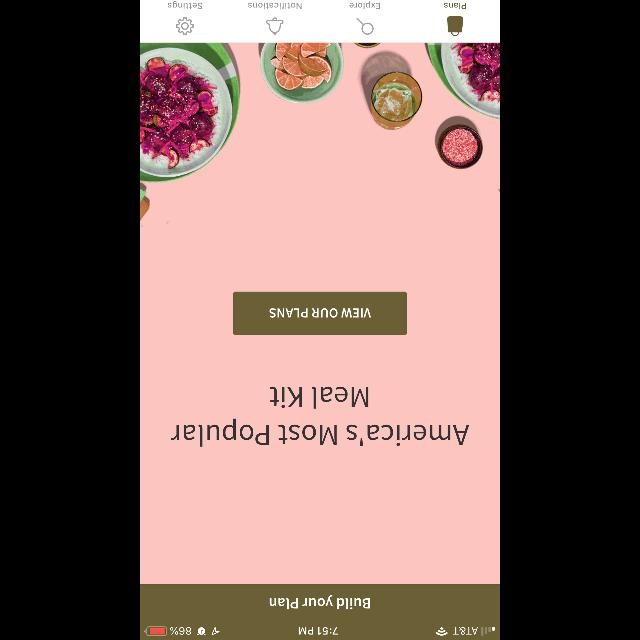icon: (447, 16, 463, 36), (356, 18, 374, 34), (266, 18, 284, 34), (176, 18, 194, 34)
image: (140, 42, 500, 222)
text: (171, 386, 469, 446), (270, 594, 370, 610), (248, 2, 302, 10), (168, 1, 202, 9), (350, 1, 380, 9), (444, 3, 466, 9)
textbutton: (233, 292, 407, 334)
uppertaskbar: (140, 626, 500, 640)
